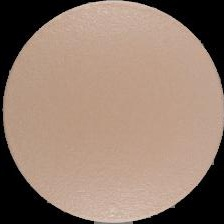61919-474: (0, 0, 224, 224)
